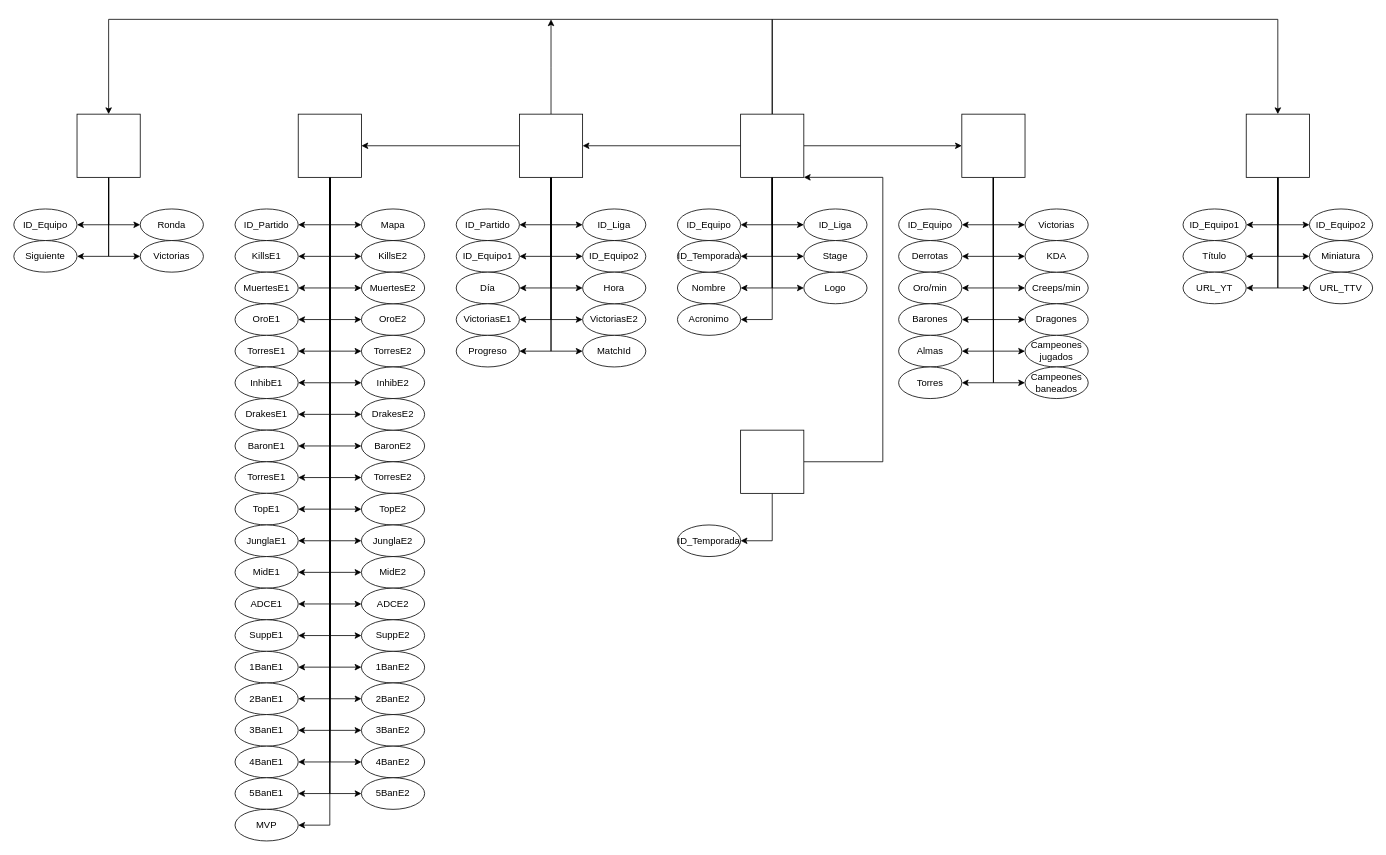
Some shapes in this 1386 by 855 pixel diagram are drawn without their labels. The shapes that lost their labels are listed below. From the top down, each one's centre as x and y in pixels, then its label:
pixel 108 145: Bracket
pixel 329 145: Info Partidos
pixel 551 145: Partidos
pixel 772 145: Equipos
pixel 993 145: Estadisticas Equipos
pixel 1277 145: Vídeos
pixel 772 461: Temporada
